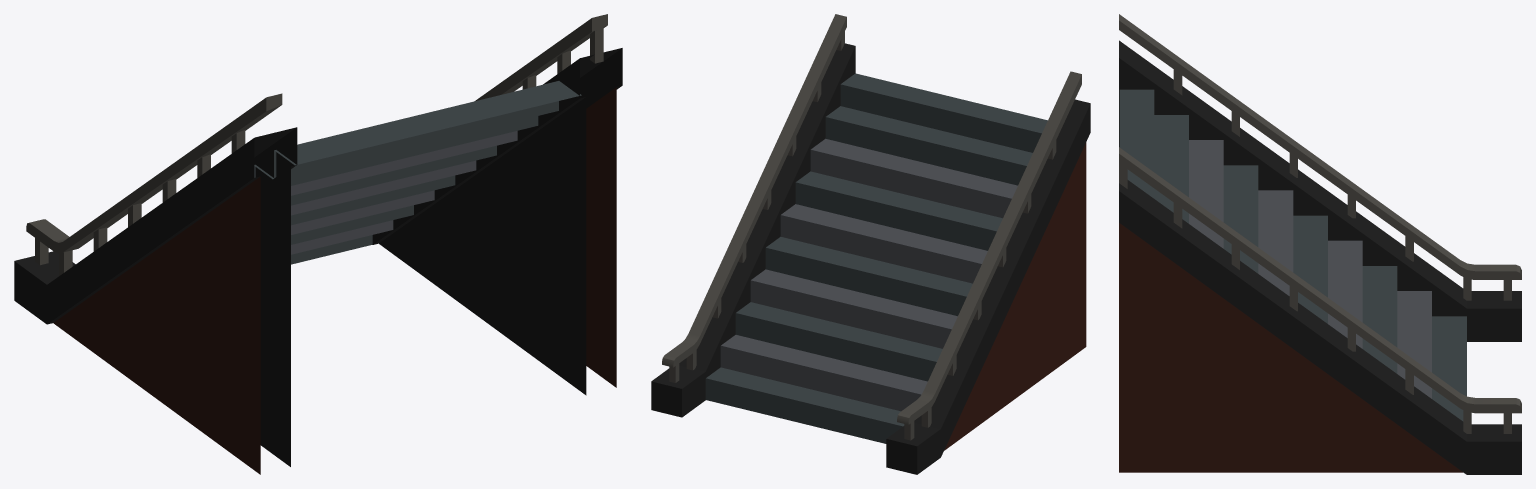
Rendered from stairs.obj.
3 views of the same model, side by side, from view 1: azimuth 30°, elevation 25°; view 2: azimuth 150°, elevation 25°; view 3: azimuth 270°, elevation 25° (orthographic). The views are drawn at different scales.
Visible parts, largest first — view 1: SM_StairCase:SM_StairCase1; view 2: SM_StairCase:SM_StairCase1; view 3: SM_StairCase:SM_StairCase1.
Part boxes in pixels (bbox=[...]): SM_StairCase:SM_StairCase1: bbox=[14, 14, 622, 474]; SM_StairCase:SM_StairCase1: bbox=[651, 14, 1090, 474]; SM_StairCase:SM_StairCase1: bbox=[1119, 14, 1521, 474].
Bounding box in the file's own units: 5.13 × 5.01 × 5.8.
